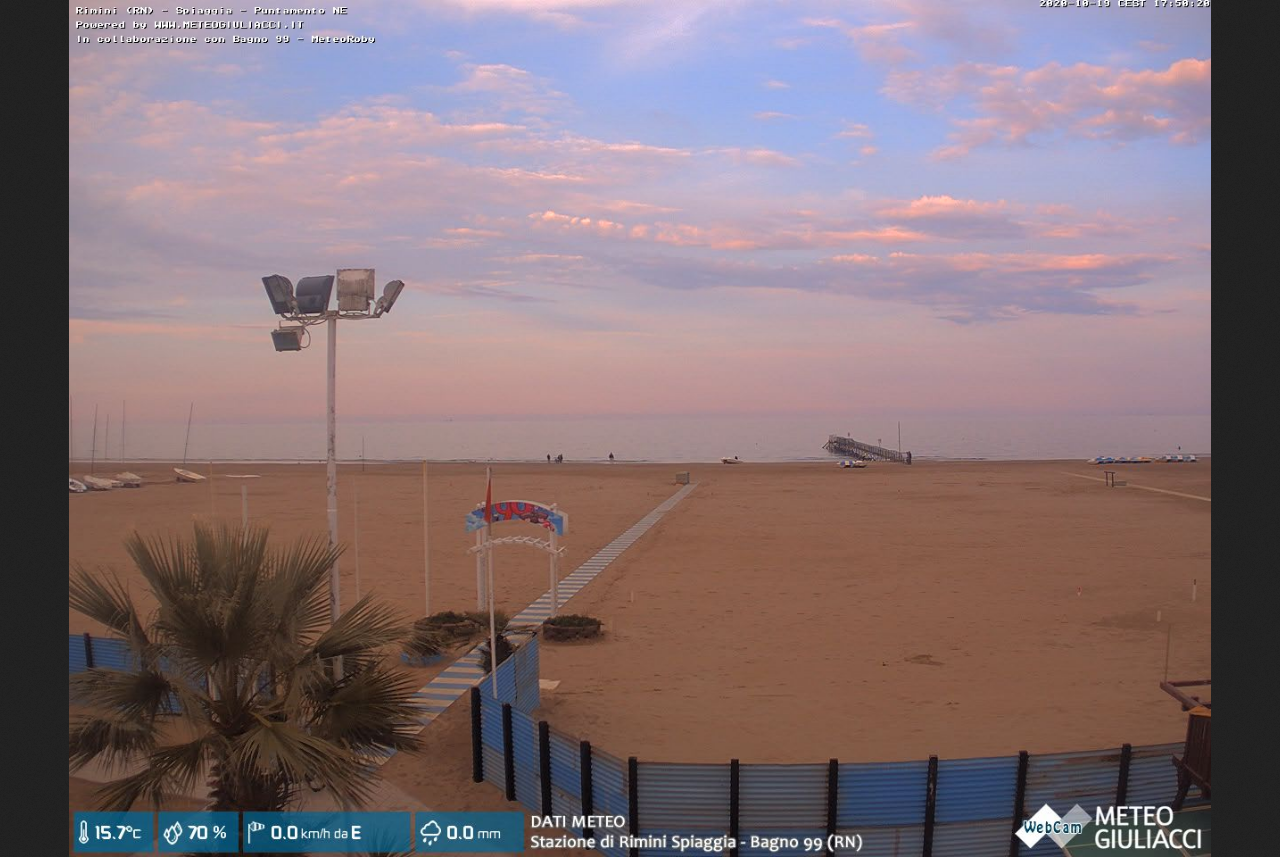no: (481, 469, 495, 525)
